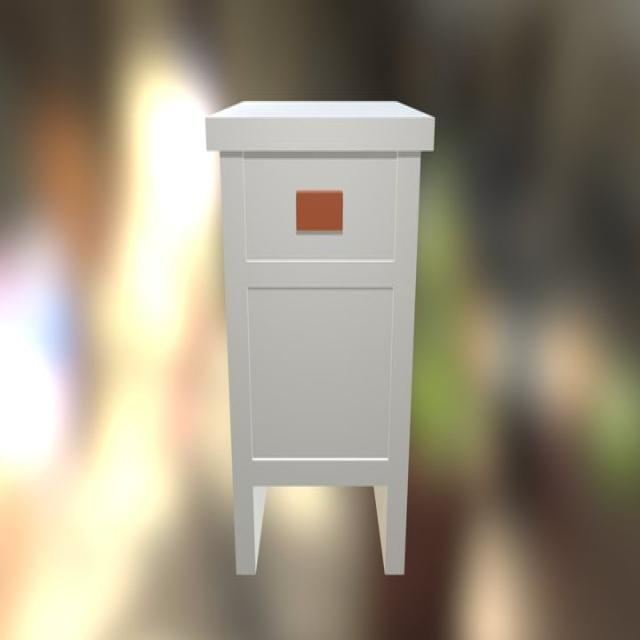table: (204, 98, 434, 570)
